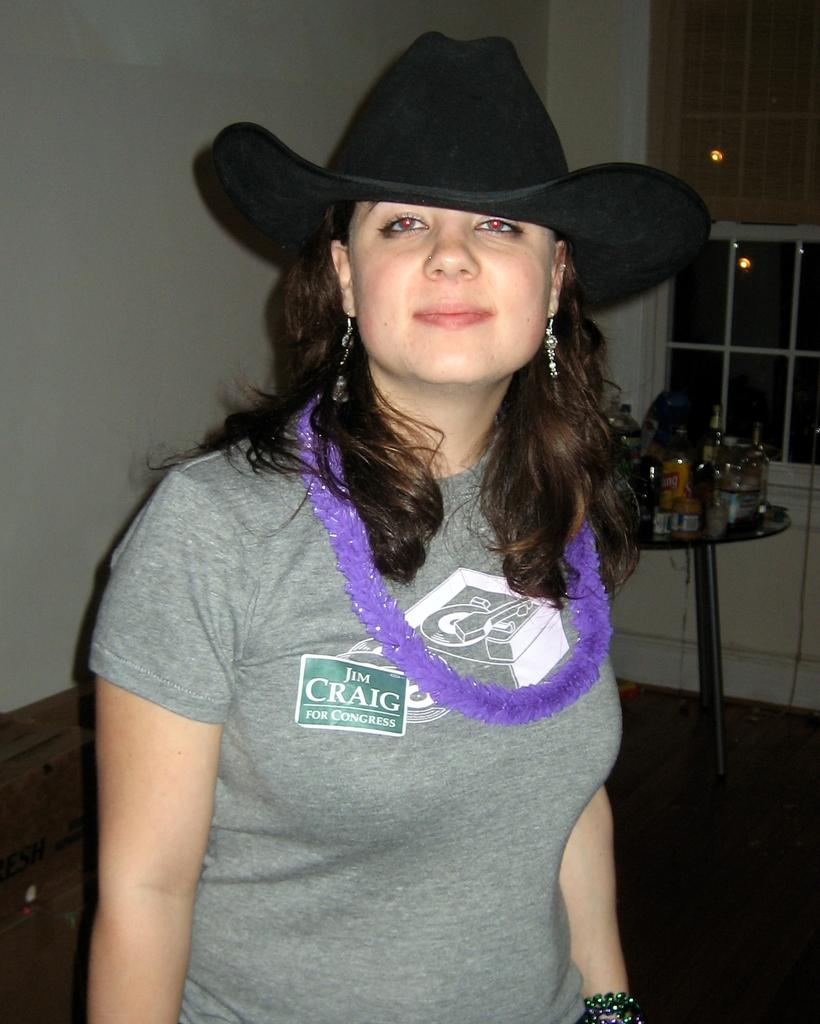Hat: (215, 34, 712, 309)
